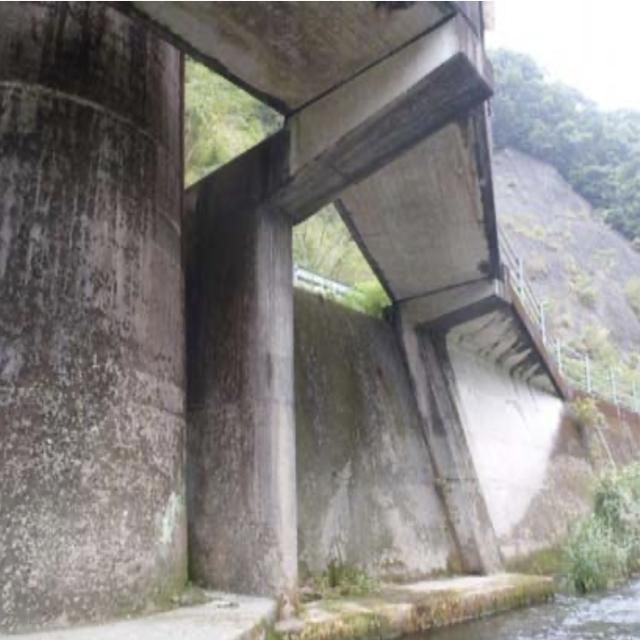leakage: (298, 283, 452, 588)
